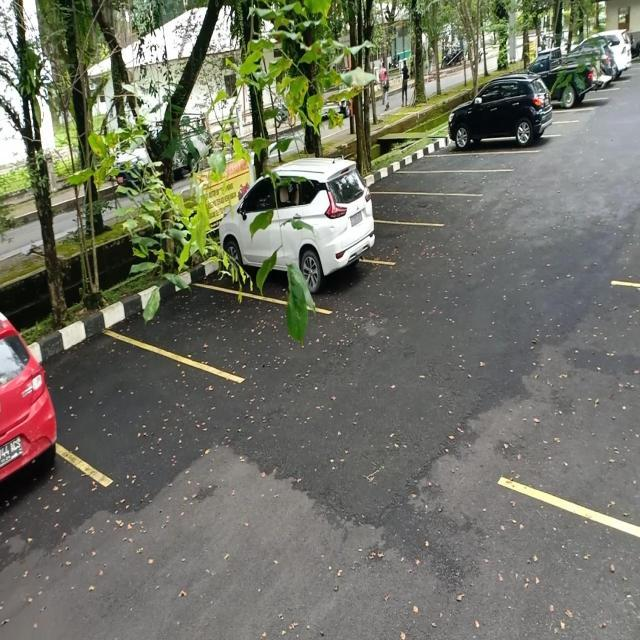Car: (201, 217, 379, 304), (447, 106, 554, 156)
Vacant: (56, 338, 204, 466), (140, 286, 284, 374), (375, 192, 461, 225), (384, 170, 498, 194), (421, 149, 529, 172)
